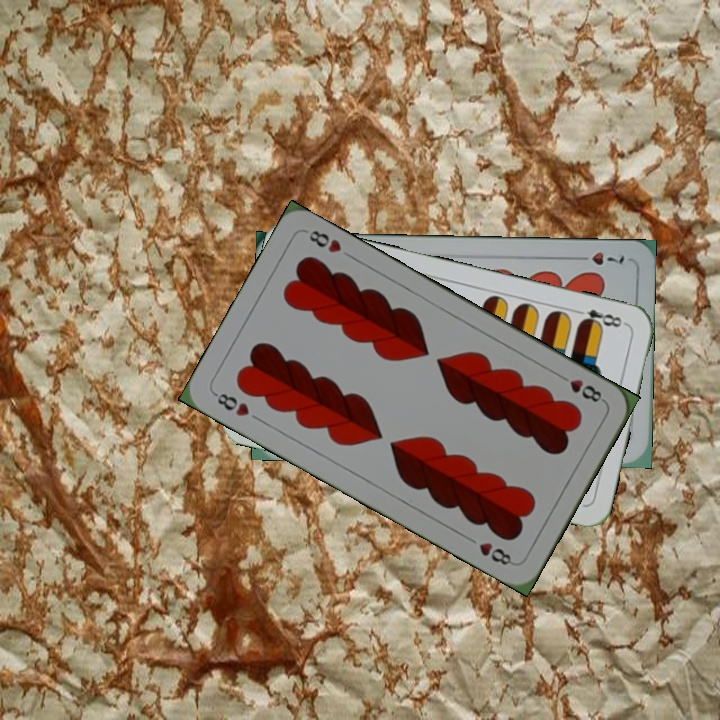E8: (571, 305, 629, 331)
H7: (570, 248, 627, 268)
H8: (553, 370, 608, 405), (209, 388, 252, 419)
